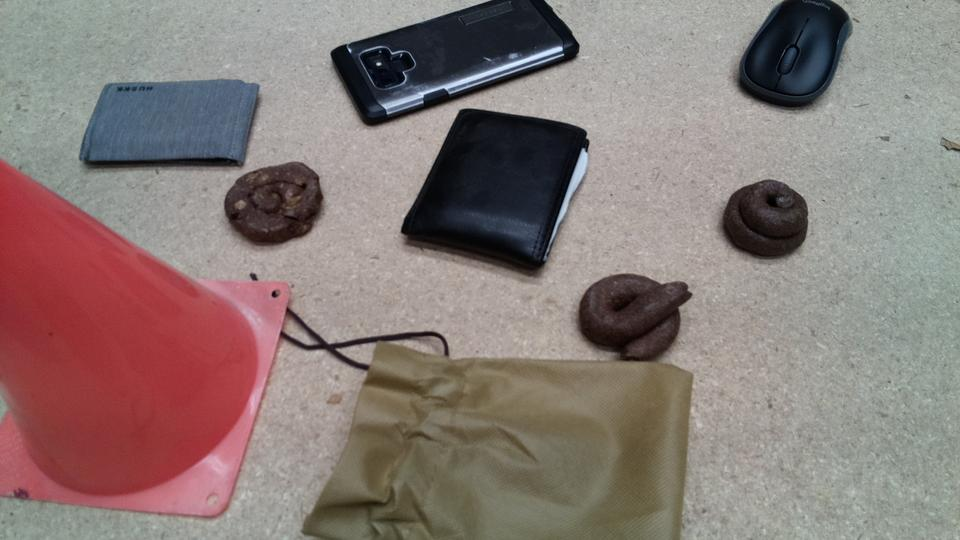poop: (577, 272, 694, 362), (222, 159, 326, 249), (722, 177, 811, 261)
